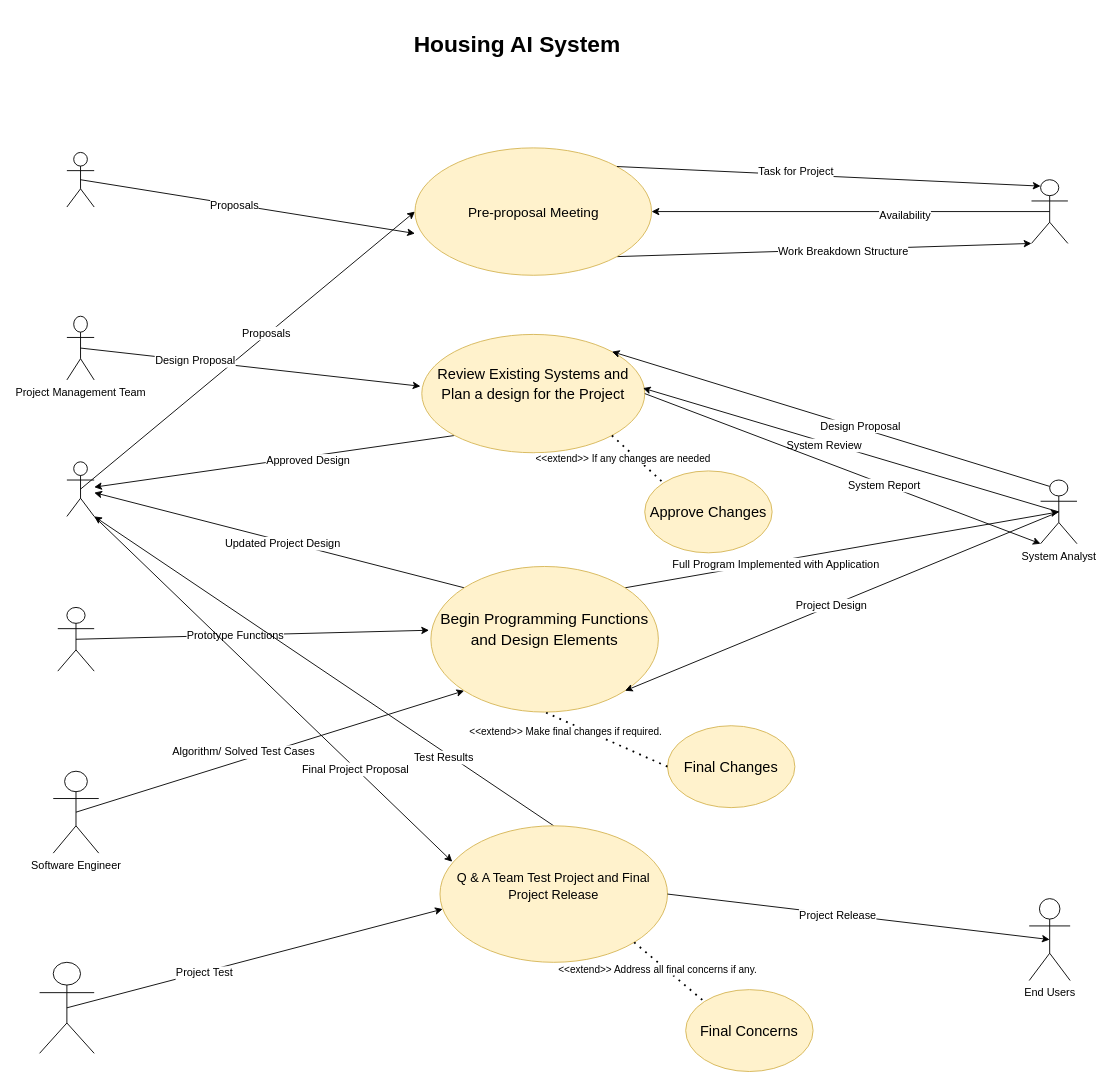
Some shapes in this 1112 by 1087 pixel diagram are drawn without their labels. Here are the shapes that lost their labels. From the top down, the box of each, then its label:
(66, 152, 94, 207): Project Sponsor
(1031, 179, 1068, 243): Stakeholders
(66, 461, 94, 516): Project Manager
(57, 607, 94, 671): Lead Programmer
(39, 961, 94, 1053): Q & A Team
